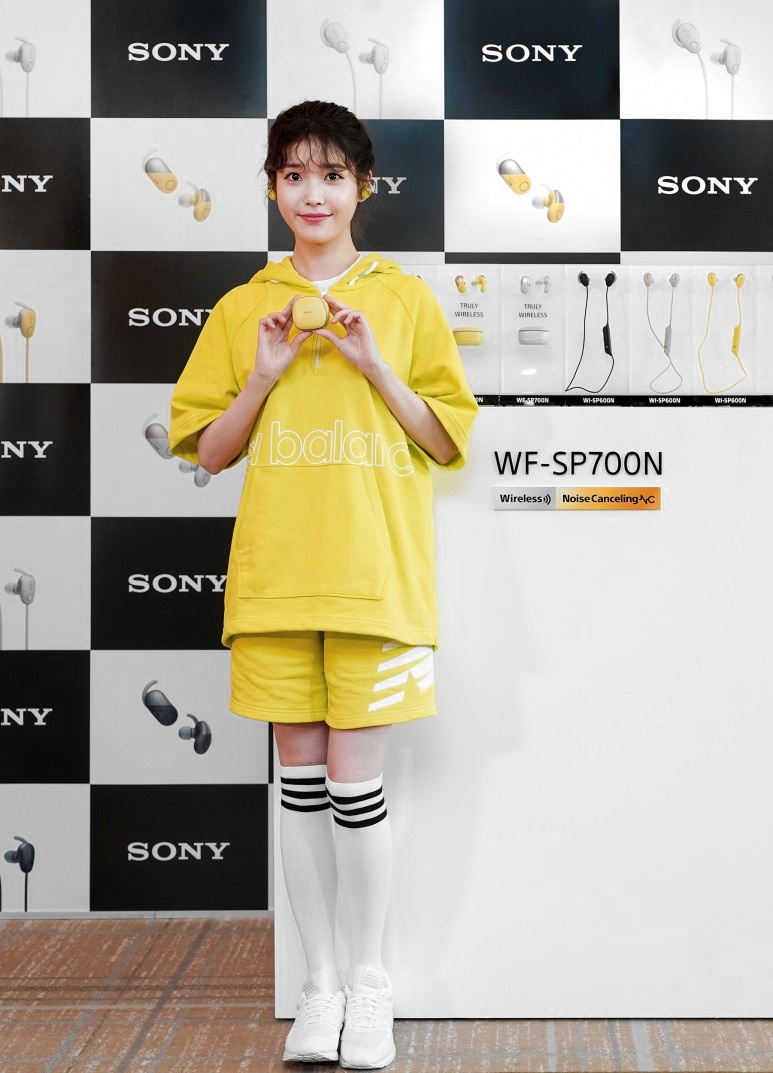earphone: (358, 169, 373, 203)
